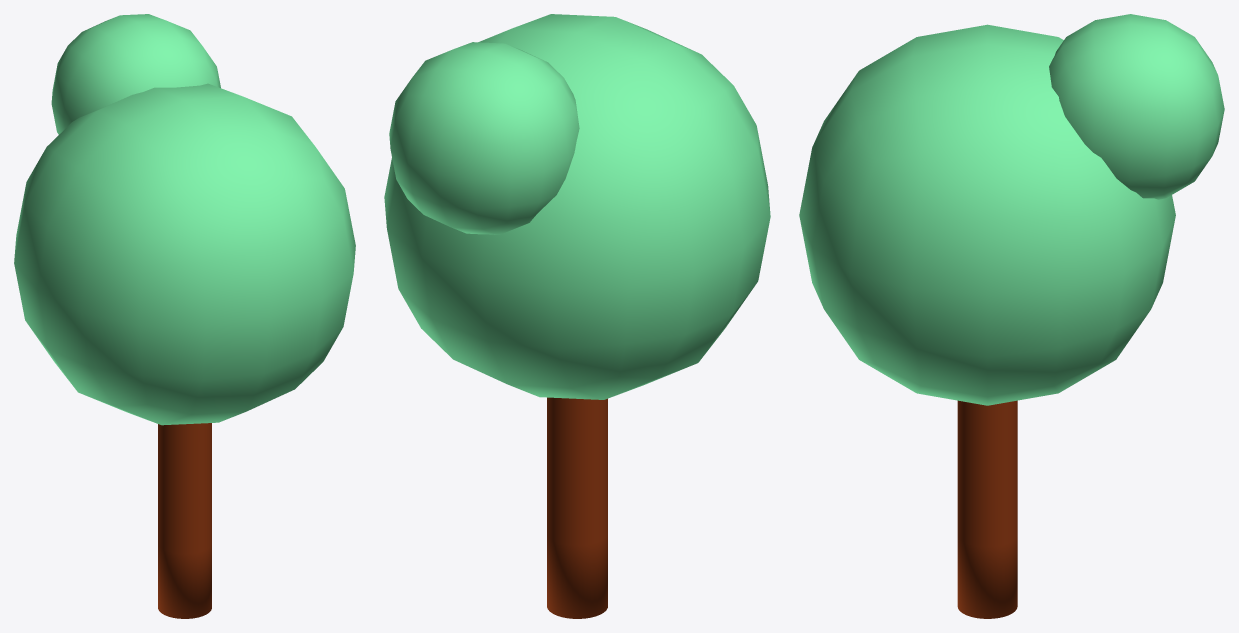
The model's file is SM_PlanteDeuxBoules.fbx.
3 views of the same model, side by side, from view 1: azimuth 30°, elevation 25°; view 2: azimuth 150°, elevation 25°; view 3: azimuth 270°, elevation 25° (orthographic). The views are drawn at different scales.
Parts seen in each view (by area): view 1: SM_PlanteDeuxBoules; view 2: SM_PlanteDeuxBoules; view 3: SM_PlanteDeuxBoules.
Boxes of the visible parts, x1=… form: SM_PlanteDeuxBoules: x1=14, y1=14, x2=355, y2=618; SM_PlanteDeuxBoules: x1=384, y1=14, x2=770, y2=618; SM_PlanteDeuxBoules: x1=799, y1=14, x2=1224, y2=618.
Size of the model in its own units: 56.89 by 50.37 by 87.24.
